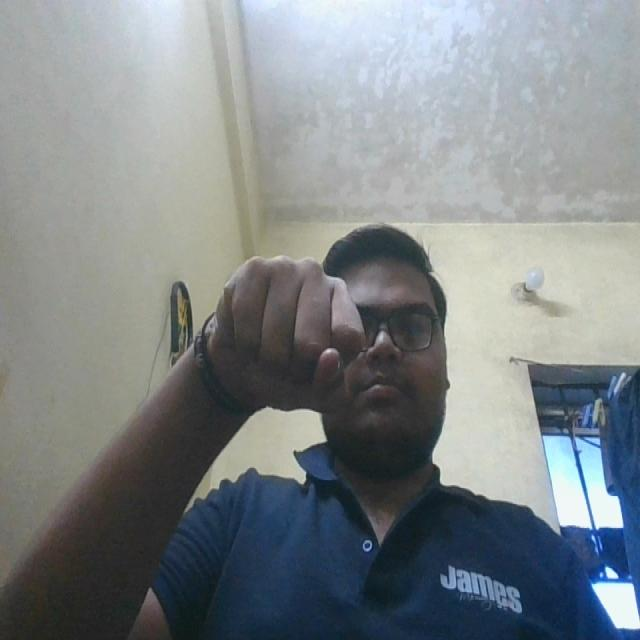Yes: (177, 215, 370, 450)
